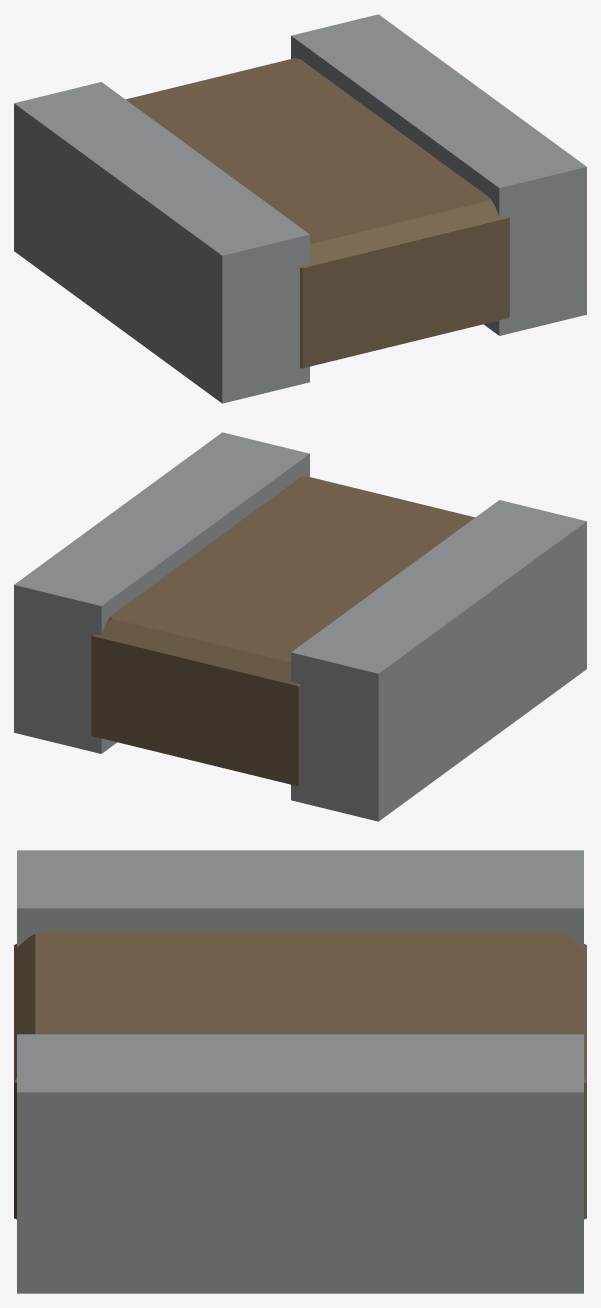
3 renders of one model, top to bottom at view 1: azimuth 30°, elevation 25°; view 2: azimuth 150°, elevation 25°; view 3: azimuth 270°, elevation 25°, orthographic. The views are drawn at different scales.
Visible parts, largest first — view 1: C_S101__Solder, C_S101__Ceramic; view 2: C_S101__Solder, C_S101__Ceramic; view 3: C_S101__Solder, C_S101__Ceramic.
Part boxes in pixels (x1=…): C_S101__Solder: x1=14, y1=14, x2=586, y2=403; C_S101__Ceramic: x1=126, y1=58, x2=509, y2=368; C_S101__Solder: x1=14, y1=432, x2=586, y2=821; C_S101__Ceramic: x1=91, y1=476, x2=474, y2=786; C_S101__Solder: x1=17, y1=850, x2=583, y2=1293; C_S101__Ceramic: x1=14, y1=931, x2=586, y2=1219.
Bounding box in the file's own units: 1.6 × 0.62 × 1.6.
